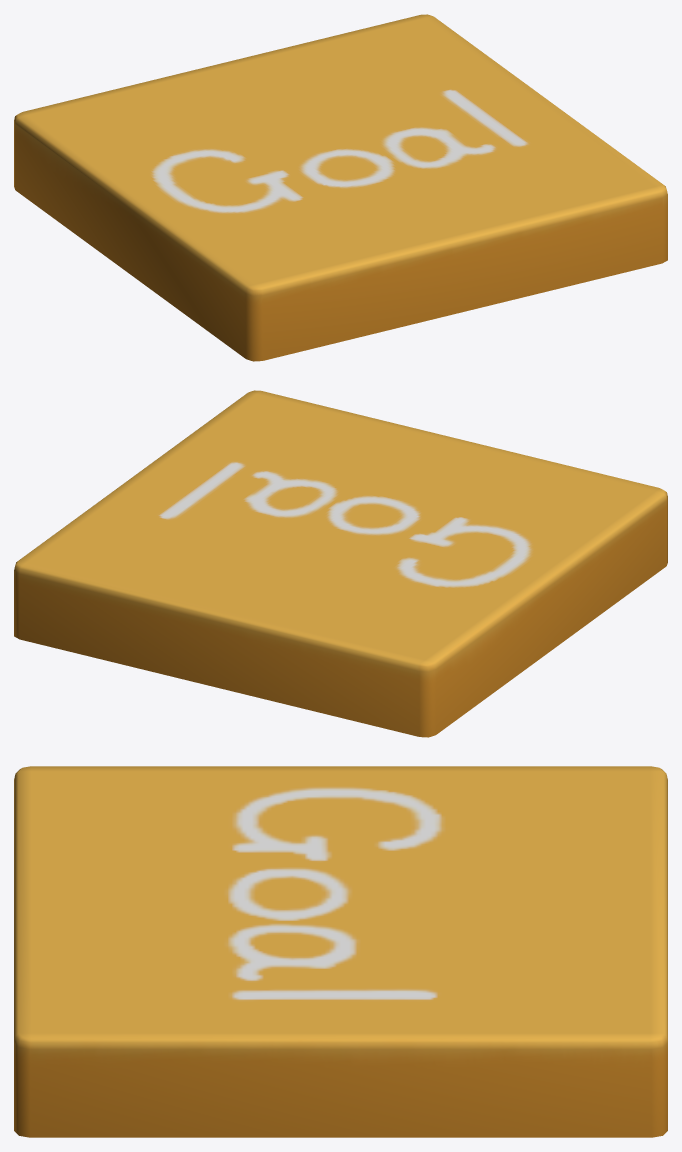
File: goal.glb
3 renders of one model, top to bottom at view 1: azimuth 30°, elevation 25°; view 2: azimuth 150°, elevation 25°; view 3: azimuth 270°, elevation 25°, orthographic. The views are drawn at different scales.
Visible parts, largest first — view 1: goal; view 2: goal; view 3: goal.
Boxes of the visible parts, x1,y1,x2,y2 form: goal: (14,14,667,361); goal: (14,390,667,737); goal: (14,766,667,1137).
Bounding box in the file's own units: 0.3636 × 0.0597 × 0.3636.
1 material, 1 textured.
